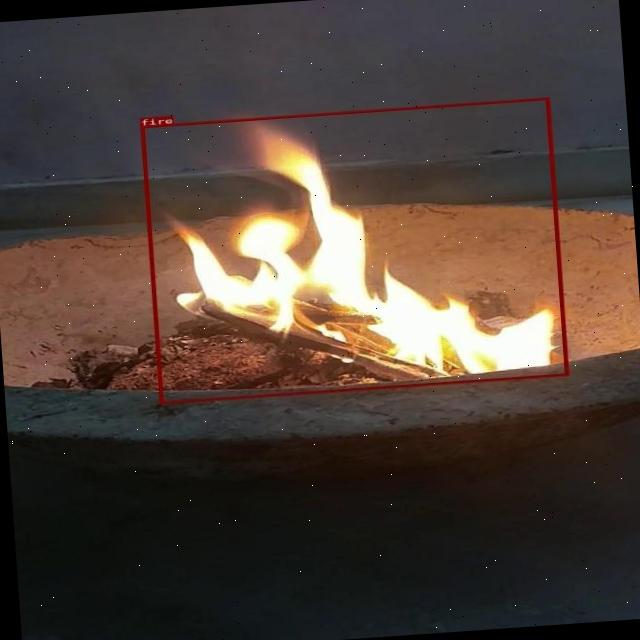fire: (139, 96, 567, 404)
